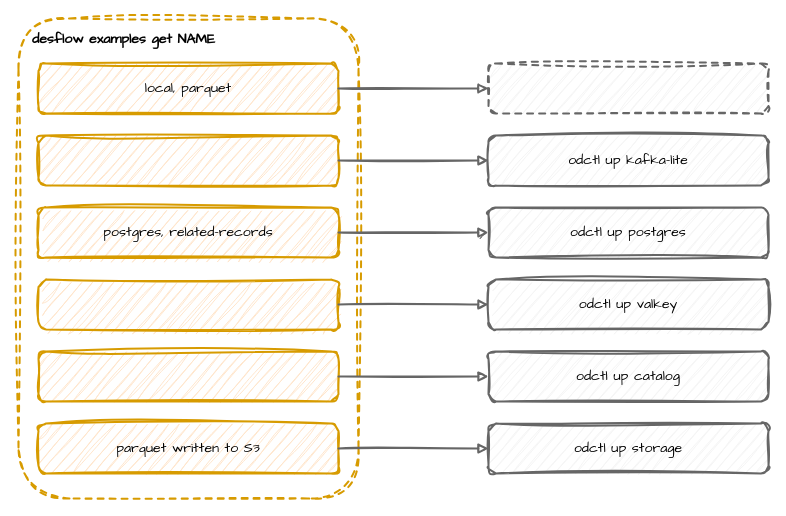
Some shapes in this 786 by 516 pixel diagram are drawn without their labels. The shapes that lost their labels are listed below. From the top down, each one's centre as x and y in pixels, then its label:
(x=628, y=88): nothing to start
(x=188, y=160): kafka, backfill-live
(x=188, y=304): redis
(x=188, y=376): iceberg
